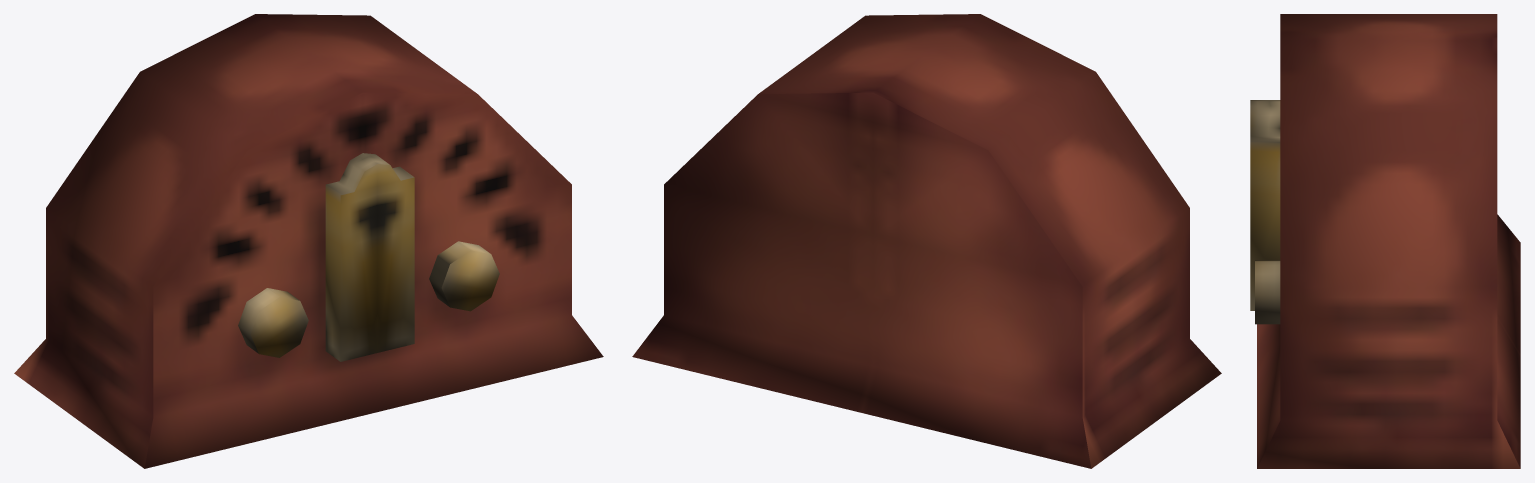
Rendered from grave_radio.glb.
3 renders of one model, left to right at view 1: azimuth 30°, elevation 25°; view 2: azimuth 150°, elevation 25°; view 3: azimuth 270°, elevation 25°, orthographic.
Visible parts, largest first — view 1: Cube; view 2: Cube; view 3: Cube.
Boxes of the visible parts, <box> form: Cube: <box>14,14,603,468</box>; Cube: <box>632,14,1221,468</box>; Cube: <box>1250,14,1520,468</box>.
Size of the model in its own units: 1.42 by 0.9233 by 0.718.
1 material, 1 textured.
